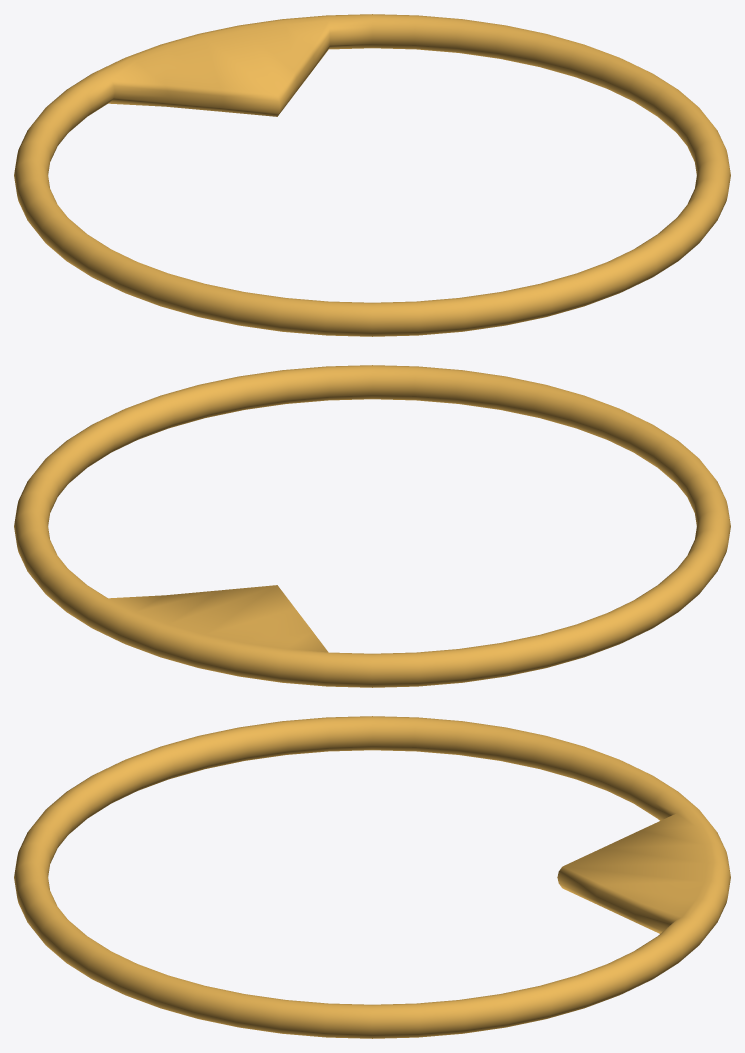
Rendered from point-of-interest Indicator.glb.
The picture shows the model from 3 angles, top to bottom: view 1: azimuth 30°, elevation 25°; view 2: azimuth 150°, elevation 25°; view 3: azimuth 270°, elevation 25°; orthographic projection.
Visible parts, largest first — view 1: Torus; view 2: Torus; view 3: Torus.
Part boxes in pixels (bbox=[...]): Torus: bbox=[14, 14, 730, 336]; Torus: bbox=[14, 365, 730, 687]; Torus: bbox=[14, 716, 730, 1038].
Bounding box in the file's own units: 2.1 × 0.1 × 2.1.
